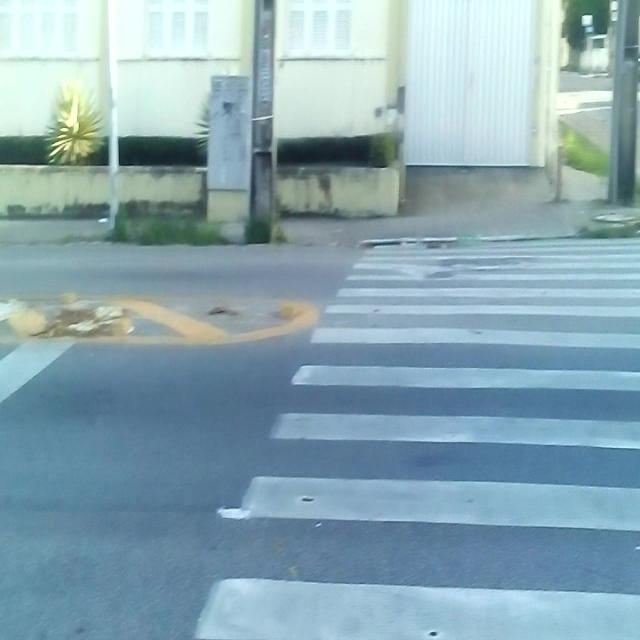crosswalk: (180, 233, 640, 640)
